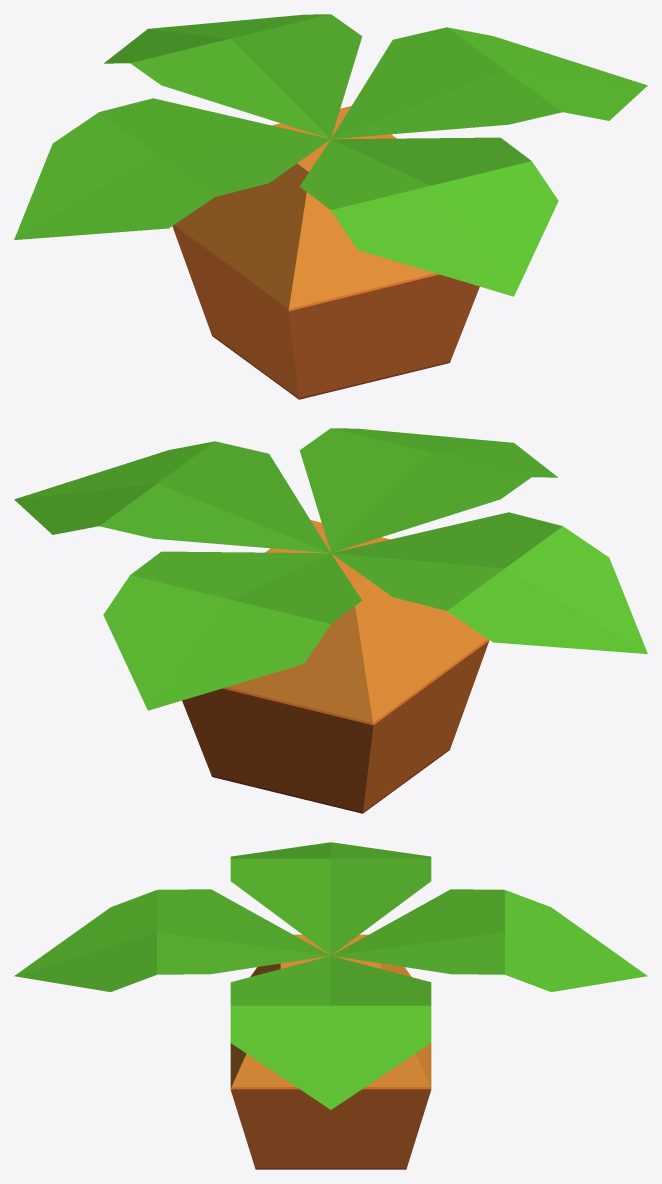
Rendered from Carrot_001-3.fbx.
3 renders of one model, top to bottom at view 1: azimuth 30°, elevation 25°; view 2: azimuth 150°, elevation 25°; view 3: azimuth 270°, elevation 25°, orthographic. The views are drawn at different scales.
Visible parts, largest first — view 1: Carrot_001-3; view 2: Carrot_001-3; view 3: Carrot_001-3.
Boxes of the visible parts, box(x1,y1,x2,y2) form: Carrot_001-3: box(14, 14, 647, 399); Carrot_001-3: box(14, 428, 647, 813); Carrot_001-3: box(14, 842, 647, 1169).
Size of the model in its own units: 39.43 by 14.15 by 39.43.
1 material, 1 textured.
